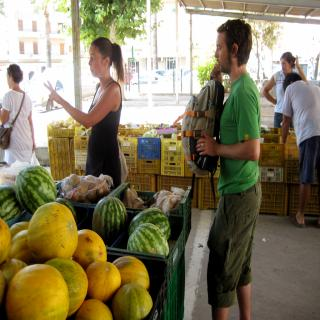Watermelon: (14, 162, 56, 212), (92, 194, 128, 246), (126, 221, 170, 260), (130, 210, 172, 240), (0, 184, 21, 222), (54, 200, 78, 220)
